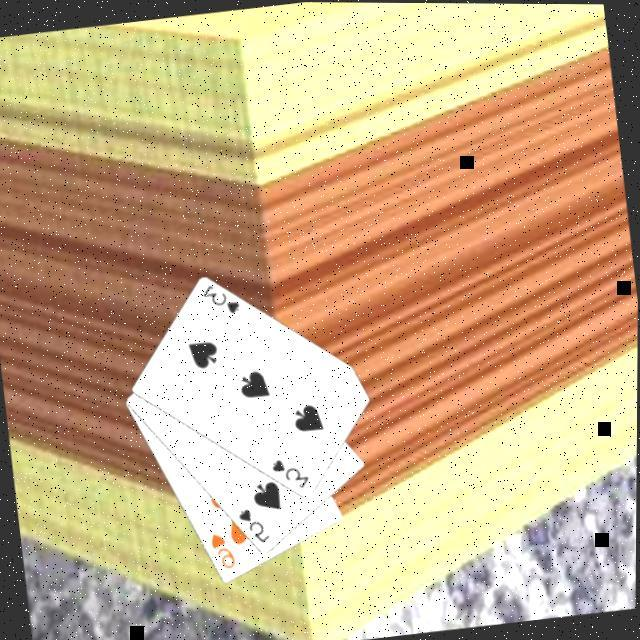3S: (269, 450, 315, 492), (200, 277, 246, 319)
5S: (236, 501, 275, 547)
9H: (208, 527, 241, 572)
